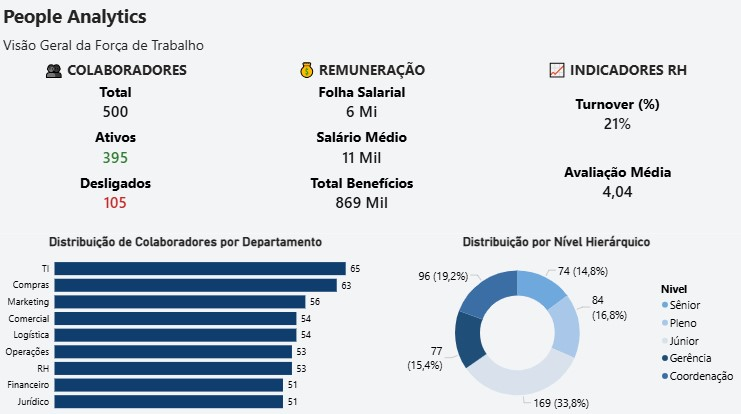

This screenshot's page, from the dashboard's own definition file:
{"tool":"powerbi","page":{"name":"Visão Geral","canvas":[1280,720],"ordinal":0},"visuals":[{"type":"cardVisual","title":"👥 COLABORADORES ","fields":{"Data":["DimCargo.Total de Colaboradores","DimCargo.Colaboradores Ativos","DimCargo.Colaboradores Desligados"]},"box":[0,103.3,398.6,268.6],"z":0},{"type":"cardVisual","title":"💰 REMUNERAÇÃO","fields":{"Data":["Fato_RH.Folha Salarial","DimCargo.Salário Médio","DimCargo.Total Benefícios"]},"box":[398,102.9,452,268.6],"z":1000},{"type":"cardVisual","title":"📈 INDICADORES RH","fields":{"Data":["DimCargo.Turnover (%)","DimCargo.Avaliação Média"]},"box":[850,102.9,430.4,268.6],"z":2000},{"type":"textbox","box":[0,0,1280,63.8],"z":3000},{"type":"textbox","box":[0,56,1280.2,42.2],"z":4000},{"type":"barChart","title":"Distribuição de Colaboradores por Departamento","fields":{"Category":["DimDepartamento.Departamento"],"Y":["DimCargo.Total de Colaboradores"]},"box":[0,403.1,640,317.5],"z":5000},{"type":"donutChart","title":"Distribuição por Nível Hierárquico","fields":{"Category":["DimCargo.Nivel"],"Y":["DimCargo.Total de Colaboradores"]},"box":[640,402.9,640,317.1],"z":6000},{"type":"shape","box":[0,90,1280,13.4],"z":7000},{"type":"shape","box":[0,371.7,1280,31.7],"z":8000}]}

Visuals, with their boxes in screenshot pixels (x1, y1, x2, y2), scaled from the page's 1280x720 canvas onto the 741x414 screenshot:
"👥 COLABORADORES " cardVisual: (x1=0, y1=59, x2=231, y2=214)
"💰 REMUNERAÇÃO" cardVisual: (x1=230, y1=59, x2=492, y2=214)
"📈 INDICADORES RH" cardVisual: (x1=492, y1=59, x2=740, y2=214)
textbox: (x1=0, y1=0, x2=740, y2=37)
textbox: (x1=0, y1=32, x2=740, y2=56)
"Distribuição de Colaboradores por Departamento" barChart: (x1=0, y1=232, x2=370, y2=413)
"Distribuição por Nível Hierárquico" donutChart: (x1=370, y1=232, x2=740, y2=413)
shape: (x1=0, y1=52, x2=740, y2=59)
shape: (x1=0, y1=214, x2=740, y2=232)
